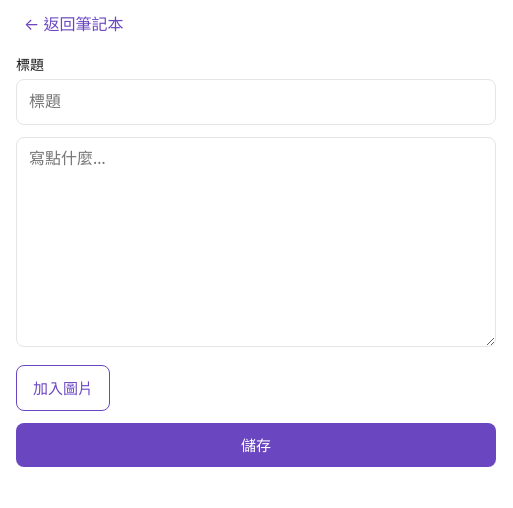
Test: NotebookEditorPage — new note › blocks save and shows an error when the title is empty
Click the button "儲存" at x=256, y=445, box [16,423,496,467]
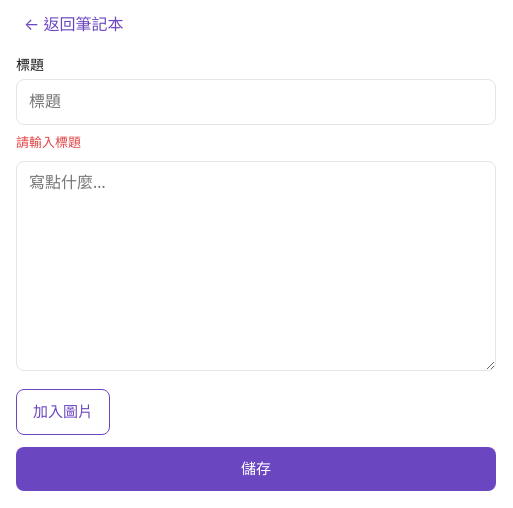
Expected: the text "請輸入標題" is shown, [16,133,81,151]
